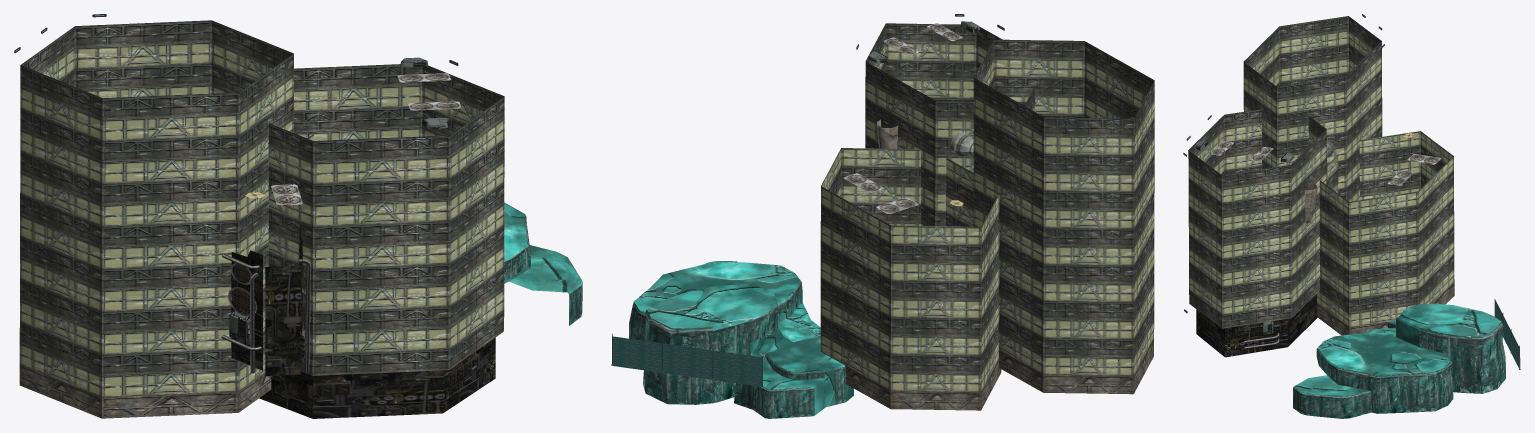
The model's file is site_07.glb.
3 renders of one model, left to right at view 1: azimuth 30°, elevation 25°; view 2: azimuth 150°, elevation 25°; view 3: azimuth 270°, elevation 25°, orthographic. The views are drawn at different scales.
Parts seen in each view (by area): view 1: CHR_1B.212_mat_80.003_0, CHR_1B.268_mat_90.003_0, CHR_1B.297_mat_103.002_0, CHR_1B.210_mat_78.003_0, CHR_1B.1013_mat_161.001_0, CHR_1B.354_mat_113.002_0, CHR_1B.406_mat_122.001_0, CHR_1B.286_mat_101.003_0, CHR_1B.205_mat_75.003_0, CHR_1B.366_mat_115.002_0; view 2: CHR_1B.268_mat_90.003_0, CHR_1B.212_mat_80.003_0, CHR_1B.1013_mat_161.001_0, CHR_1B.205_mat_75.003_0, CHR_1B.210_mat_78.003_0, CHR_1B.1022_mat_164.001_0, CHR_1B.1020_mat_164.001_0, CHR_1B.1021_mat_164.001_0, CHR_1B.354_mat_113.002_0, CHR_1B.269_mat_91.003_0; view 3: CHR_1B.212_mat_80.003_0, CHR_1B.268_mat_90.003_0, CHR_1B.205_mat_75.003_0, CHR_1B.1013_mat_161.001_0, CHR_1B.297_mat_103.002_0, CHR_1B.210_mat_78.003_0, CHR_1B.354_mat_113.002_0, CHR_1B.269_mat_91.003_0, CHR_1B.286_mat_101.003_0.
Boxes of the visible parts, x1,y1,x2,y2 form: CHR_1B.212_mat_80.003_0: (19,20,504,375); CHR_1B.268_mat_90.003_0: (19,42,504,397); CHR_1B.297_mat_103.002_0: (231,226,495,418); CHR_1B.210_mat_78.003_0: (19,364,271,418); CHR_1B.1013_mat_161.001_0: (504,202,582,294); CHR_1B.354_mat_113.002_0: (228,73,461,325); CHR_1B.406_mat_122.001_0: (221,254,310,373); CHR_1B.286_mat_101.003_0: (229,57,449,363); CHR_1B.205_mat_75.003_0: (504,214,582,325); CHR_1B.366_mat_115.002_0: (231,264,304,326); CHR_1B.268_mat_90.003_0: (820,42,1154,392); CHR_1B.212_mat_80.003_0: (820,23,1154,373); CHR_1B.1013_mat_161.001_0: (634,261,853,415); CHR_1B.205_mat_75.003_0: (629,283,845,418); CHR_1B.210_mat_78.003_0: (845,339,1153,410); CHR_1B.1022_mat_164.001_0: (612,336,662,372); CHR_1B.1020_mat_164.001_0: (713,350,762,386); CHR_1B.1021_mat_164.001_0: (663,343,712,379); CHR_1B.354_mat_113.002_0: (843,23,962,213); CHR_1B.269_mat_91.003_0: (877,119,973,157); CHR_1B.212_mat_80.003_0: (1188,16,1454,328); CHR_1B.268_mat_90.003_0: (1188,30,1454,327); CHR_1B.205_mat_75.003_0: (1293,322,1505,418); CHR_1B.1013_mat_161.001_0: (1293,303,1501,396); CHR_1B.297_mat_103.002_0: (1196,294,1317,357); CHR_1B.210_mat_78.003_0: (1316,282,1454,335); CHR_1B.354_mat_113.002_0: (1211,141,1441,185); CHR_1B.269_mat_91.003_0: (1304,140,1333,223); CHR_1B.286_mat_101.003_0: (1194,140,1294,334).
Bounding box in the file's own units: 142 × 89.86 × 117.
Materials: 19 (19 with a texture image).
